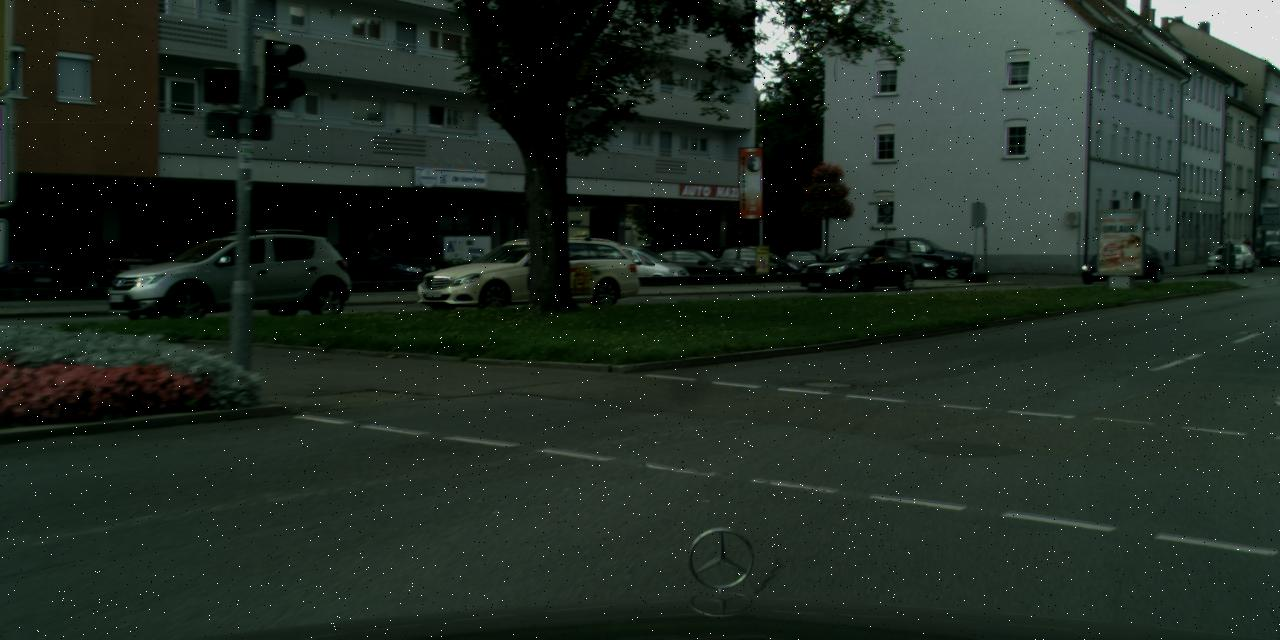ped: (1243, 238, 1251, 259)
